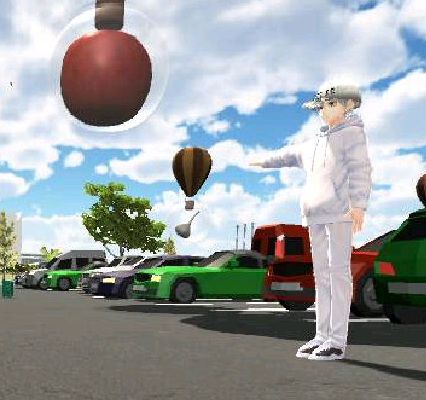singleP_left: (244, 82, 375, 361)
